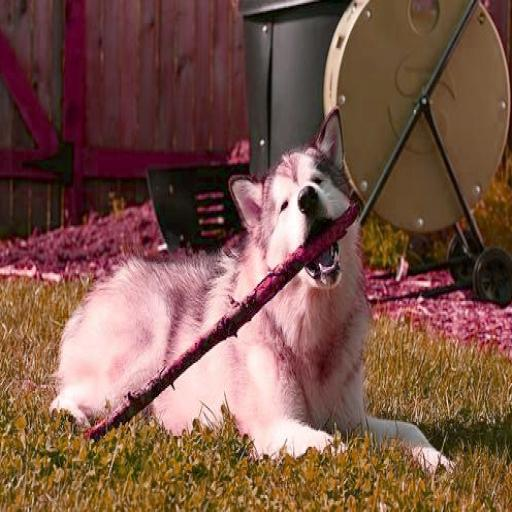dog_face: (224, 127, 358, 311)
